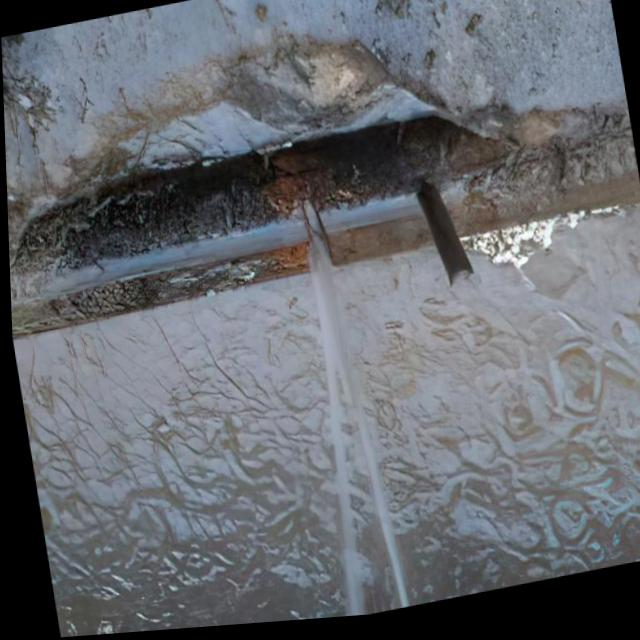leak: (280, 183, 436, 620)
